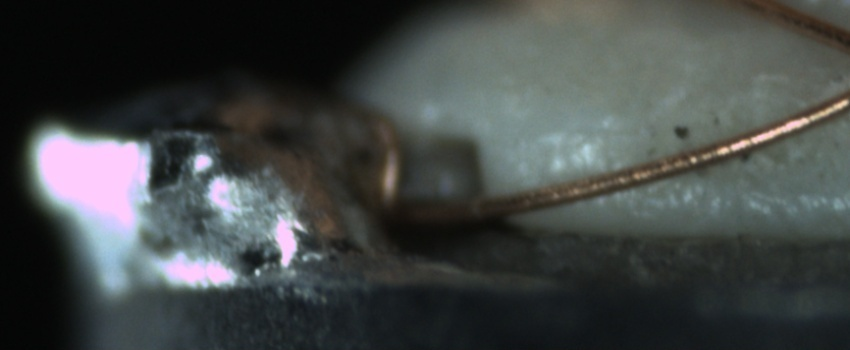DL: (526, 103, 667, 160)
TE: (350, 99, 414, 231)
